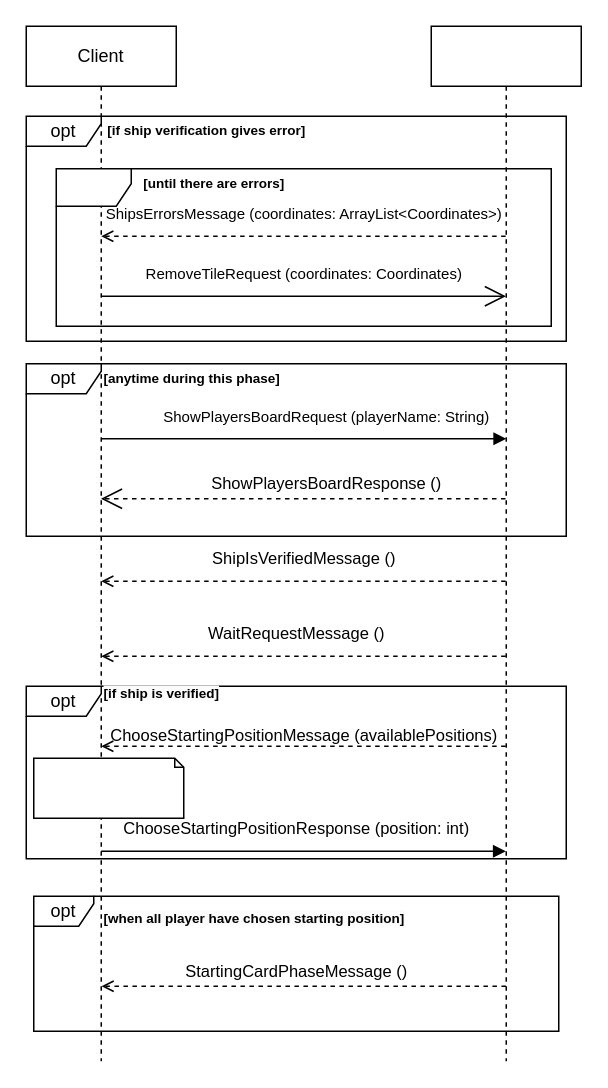
Image size: 608x1088. Some labels were removed from this diagram. Here are the shapes that lost their labels. From the top down, the box of each, then its label:
(55, 167, 551, 326): loop
(430, 25, 581, 1061): Server
(32, 757, 184, 818): verifies the input is one of the available ones
